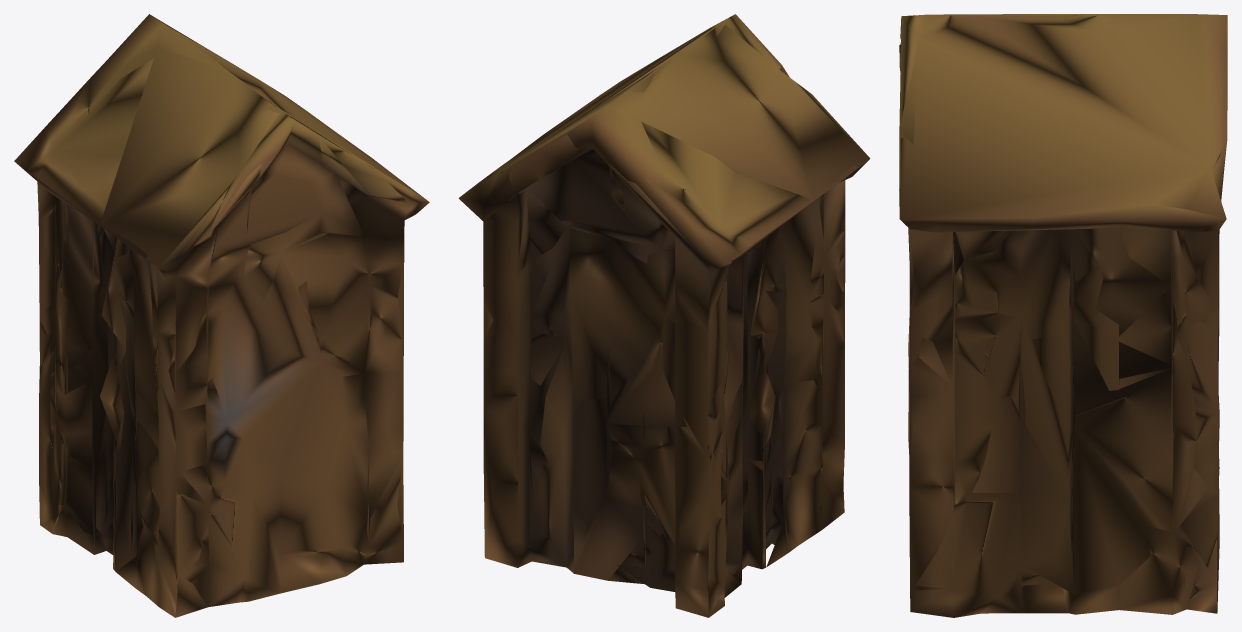
File: gen3d-outhouse-lod0.glb
The picture shows the model from 3 angles, left to right: view 1: azimuth 30°, elevation 25°; view 2: azimuth 150°, elevation 25°; view 3: azimuth 270°, elevation 25°; orthographic projection. The views are drawn at different scales.
Visible parts, largest first — view 1: part_0; view 2: part_0; view 3: part_0.
Part boxes in pixels (left/top/right/bottom): part_0: left=14, top=14, right=429, bottom=617; part_0: left=458, top=14, right=870, bottom=617; part_0: left=899, top=14, right=1227, bottom=617.
Size of the model in its own units: 0.5917 by 0.9998 by 0.5475.
